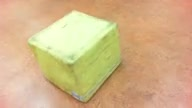cube: (27, 9, 121, 104)
